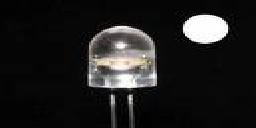LED: (80, 24, 161, 128), (181, 14, 232, 49)
